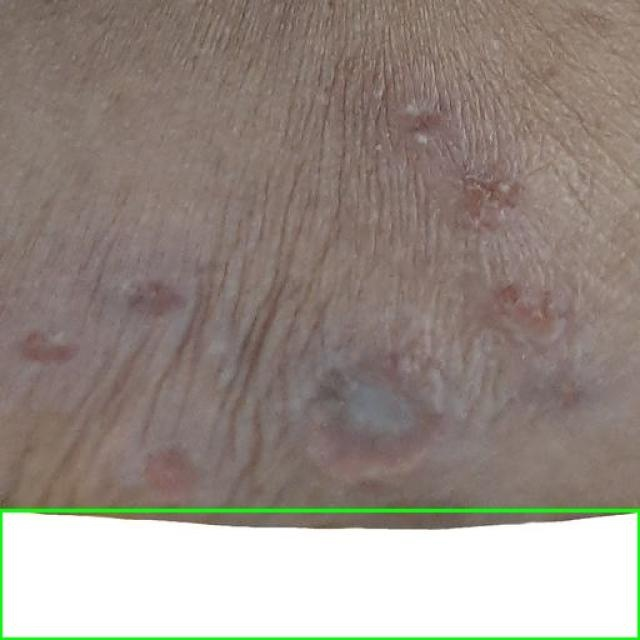Contact Dermatitis: (0, 510, 639, 639)
